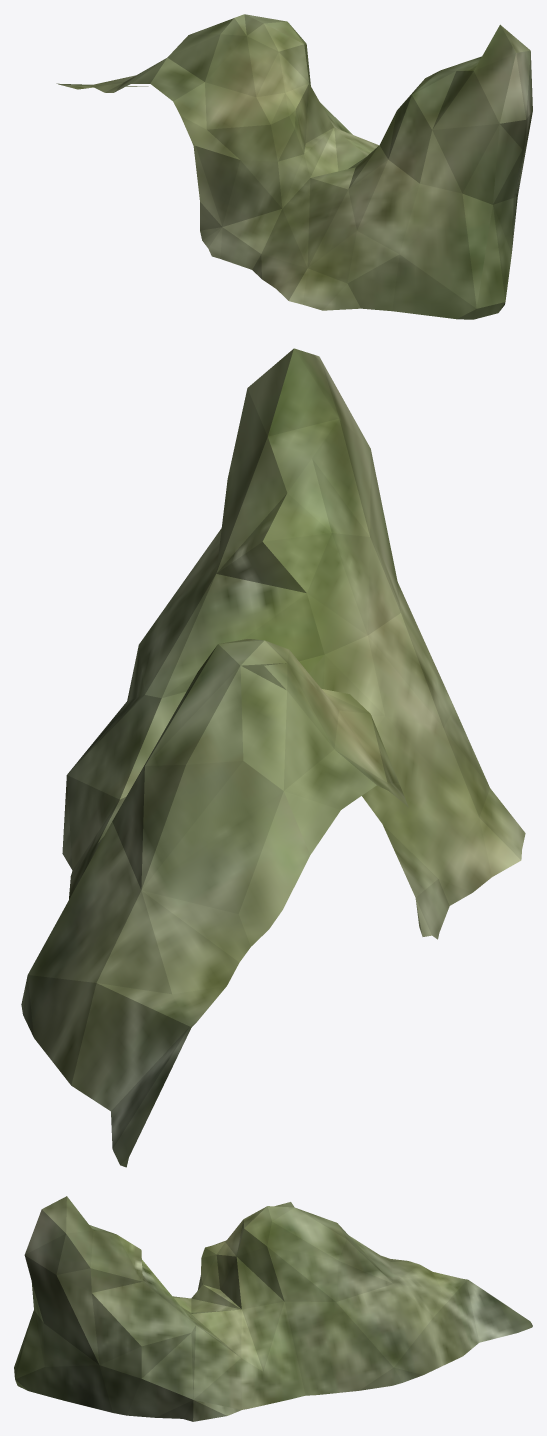
The picture shows the model from 3 angles, top to bottom: view 1: azimuth 30°, elevation 25°; view 2: azimuth 150°, elevation 25°; view 3: azimuth 270°, elevation 25°; orthographic projection. The views are drawn at different scales.
Size of the model in its own units: 0.7167 by 0.695 by 1.61.
1 material, 1 textured.
